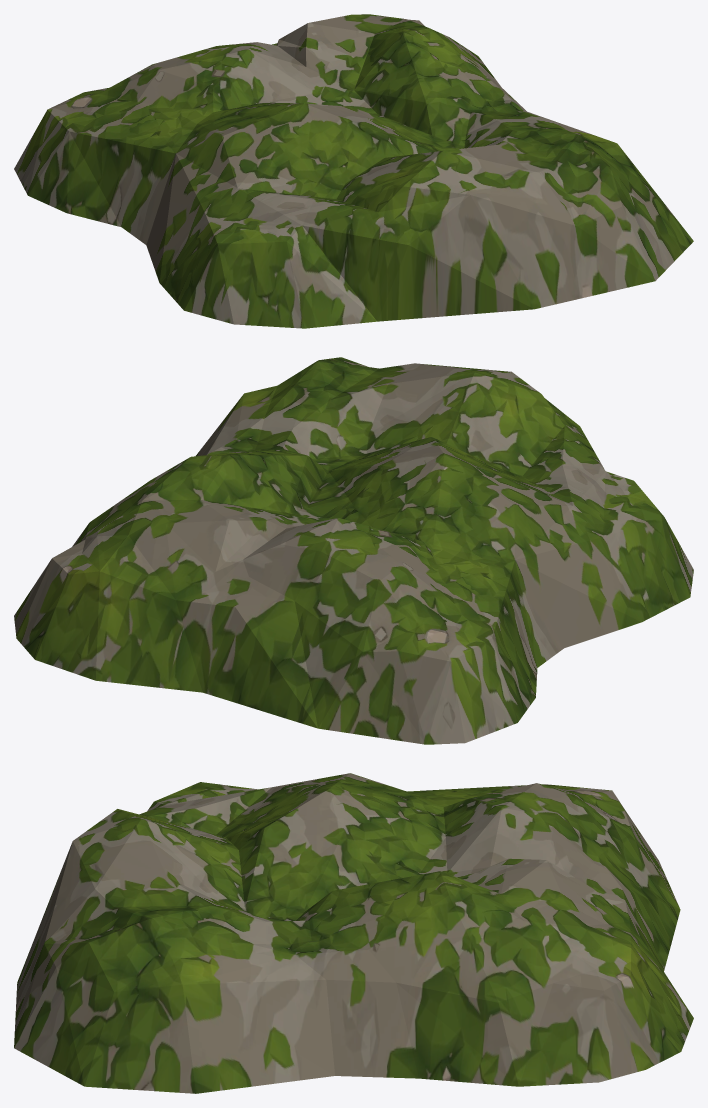
The model's file is samurai_SM_Env_Moss_04.gltf.
3 views of the same model, one above another, from view 1: azimuth 30°, elevation 25°; view 2: azimuth 150°, elevation 25°; view 3: azimuth 270°, elevation 25° (orthographic). The views are drawn at different scales.
Visible parts, largest first — view 1: SM_Env_Moss_04; view 2: SM_Env_Moss_04; view 3: SM_Env_Moss_04.
Part boxes in pixels (x1,y1,x2,y2): SM_Env_Moss_04: [14, 14, 693, 328]; SM_Env_Moss_04: [14, 357, 693, 744]; SM_Env_Moss_04: [14, 773, 693, 1093].
Bounding box in the file's own units: 1.98 × 0.5166 × 2.22.
Materials: 1 (1 with a texture image).
